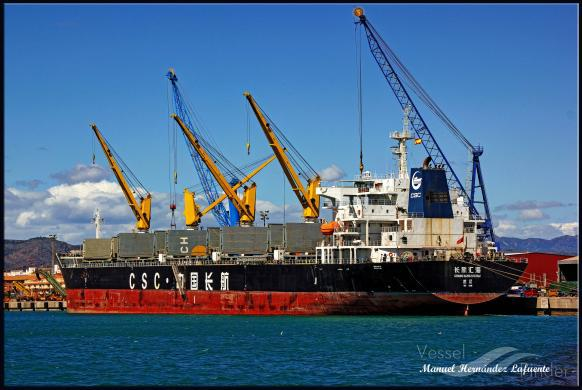OCR: (112, 264, 172, 292), (449, 265, 484, 290)
